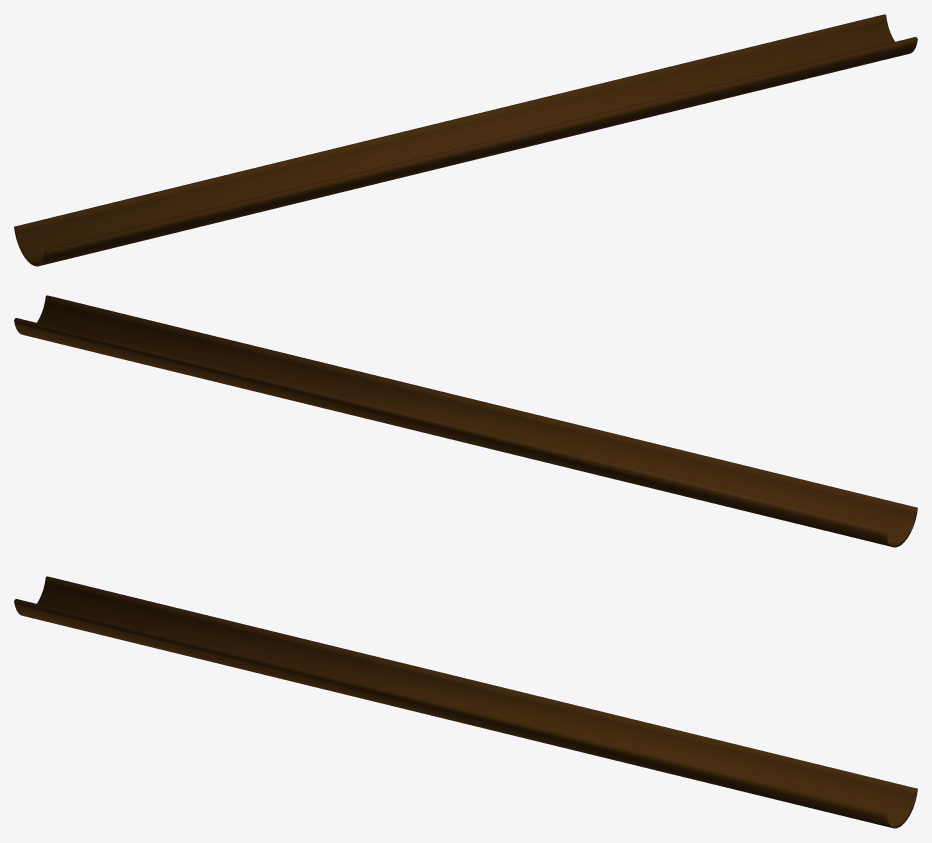
Rendered from Gutter.fbx.
3 renders of one model, top to bottom at view 1: azimuth 30°, elevation 25°; view 2: azimuth 150°, elevation 25°; view 3: azimuth 330°, elevation 25°, orthographic.
Parts seen in each view (by area): view 1: Cylinder; view 2: Cylinder; view 3: Cylinder.
Part boxes in pixels (x1,y1,x2,y2): Cylinder: (14,14,917,266); Cylinder: (14,295,917,547); Cylinder: (14,576,917,828).
Bounding box in the file's own units: 2926 × 83.68 × 196.
